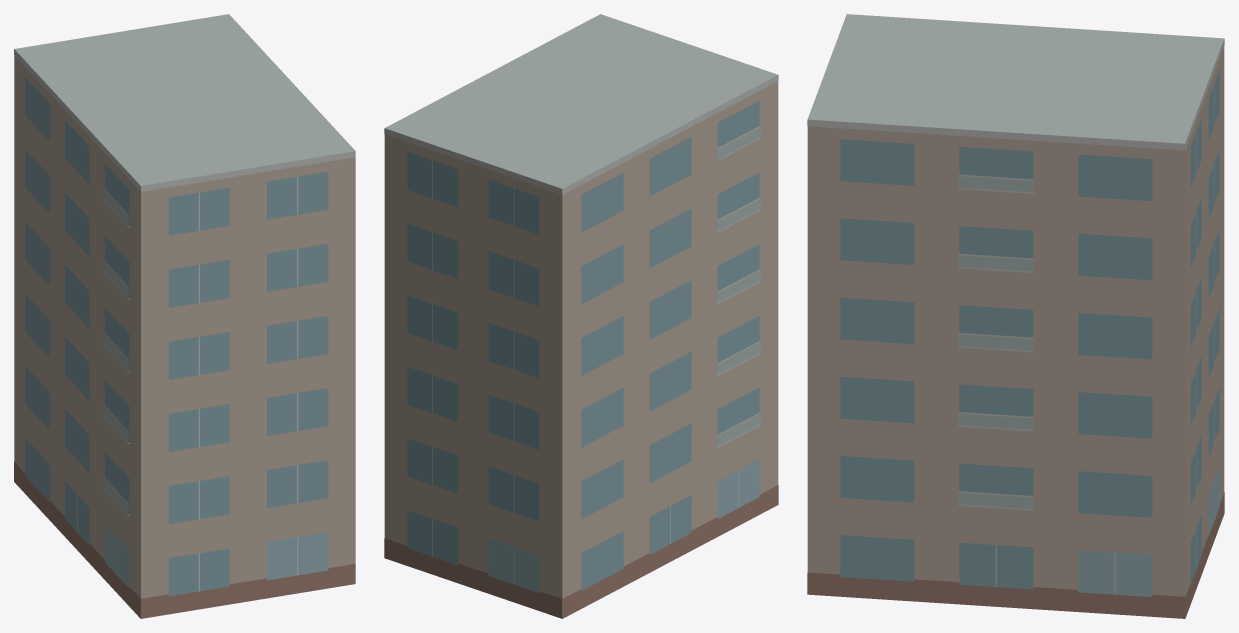
File: survey-upis-33043447.glb
3 views of the same model, side by side, from view 1: azimuth 30°, elevation 25°; view 2: azimuth 150°, elevation 25°; view 3: azimuth 270°, elevation 25° (orthographic). The views are drawn at different scales.
Parts seen in each view (by area): view 1: survey-upis-33043447.tmp; view 2: survey-upis-33043447.tmp; view 3: survey-upis-33043447.tmp.
Boxes of the visible parts, bbox=[...] form: survey-upis-33043447.tmp: bbox=[14, 14, 355, 618]; survey-upis-33043447.tmp: bbox=[384, 14, 778, 618]; survey-upis-33043447.tmp: bbox=[807, 14, 1224, 618].
Bounding box in the file's own units: 10.21 × 17.4 × 13.85.
